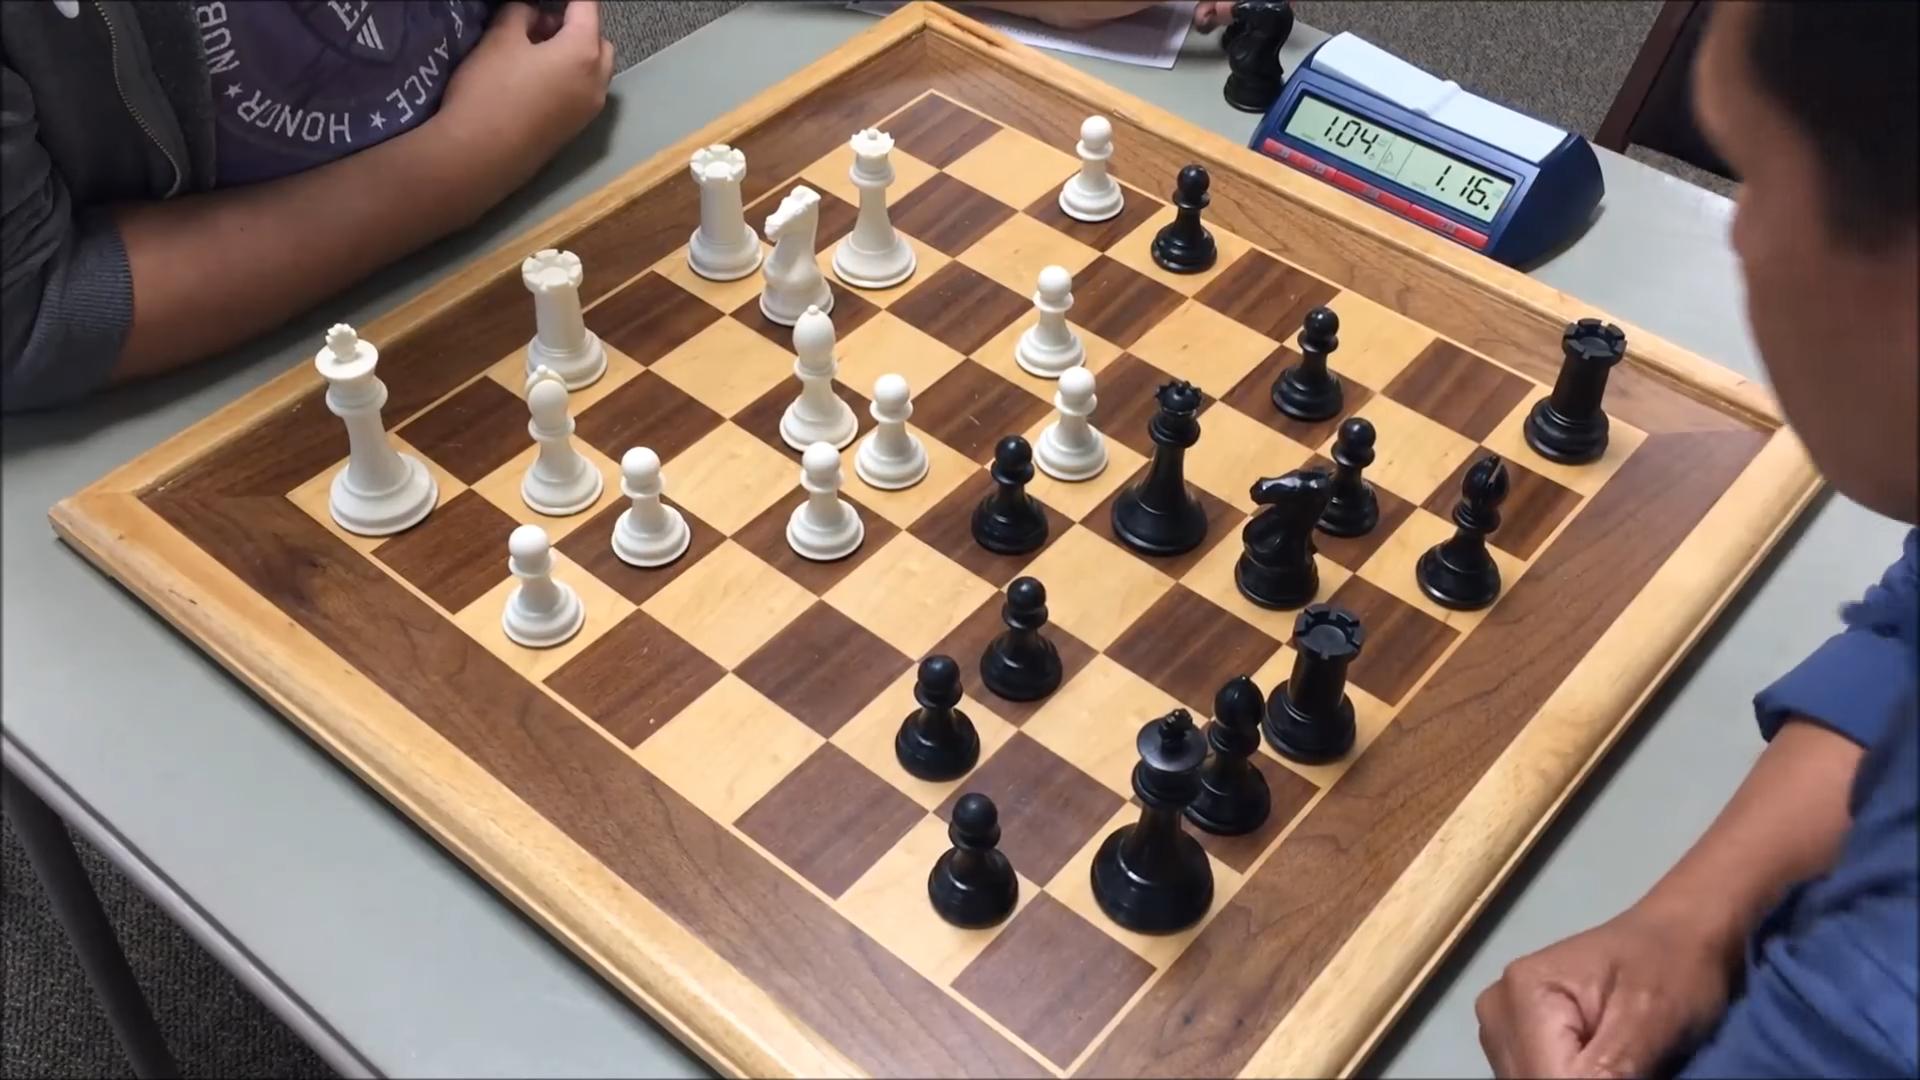BB: (1415, 450, 1511, 615), (1196, 673, 1273, 835)
BK: (1089, 705, 1217, 935)
BN: (1232, 468, 1323, 605)
BP: (924, 791, 1019, 931), (890, 653, 980, 782), (978, 574, 1062, 708), (971, 434, 1050, 555), (1270, 305, 1346, 423), (1146, 161, 1220, 276), (1316, 418, 1383, 539)
BQ: (1112, 376, 1209, 558)
BR: (1265, 600, 1362, 766), (1523, 314, 1622, 467)
WB: (521, 363, 603, 514), (781, 303, 861, 452)
WK: (310, 319, 442, 537)
WN: (757, 185, 837, 330)
WP: (604, 446, 694, 570), (502, 522, 587, 650), (853, 373, 932, 496), (785, 442, 864, 562), (1035, 368, 1108, 483), (1018, 265, 1089, 375), (1058, 115, 1127, 223)
WQ: (833, 125, 916, 290)
WR: (510, 247, 608, 390), (680, 138, 766, 285)
